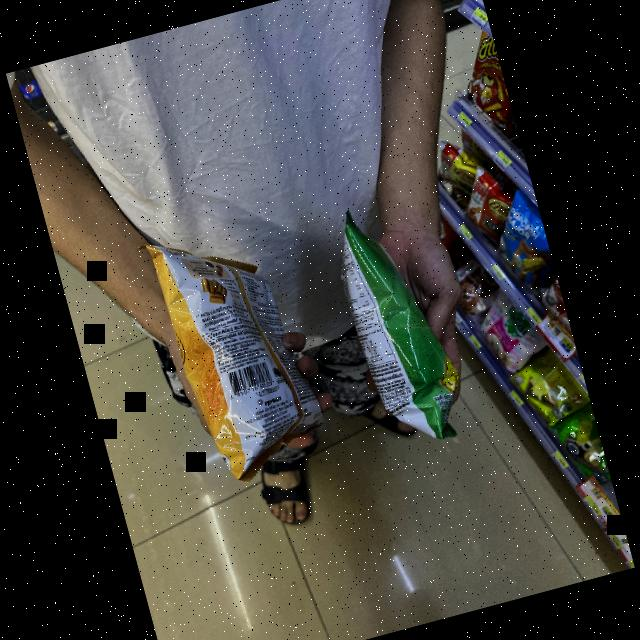snack_bag: (128, 205, 356, 502), (316, 190, 462, 460)
